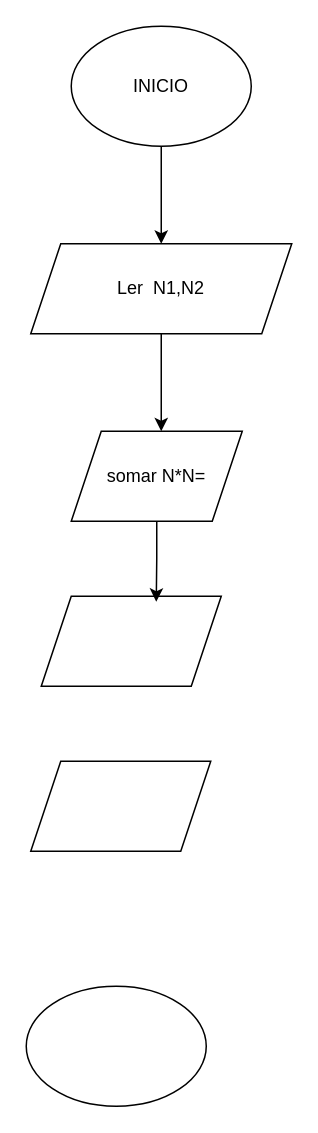
Some shapes in this 318 by 1133 pixel diagram are drawn without their labels. Each missing label, with the centre of its shape:
escrever: the point at 130,640
FIM: the point at 115,1045
